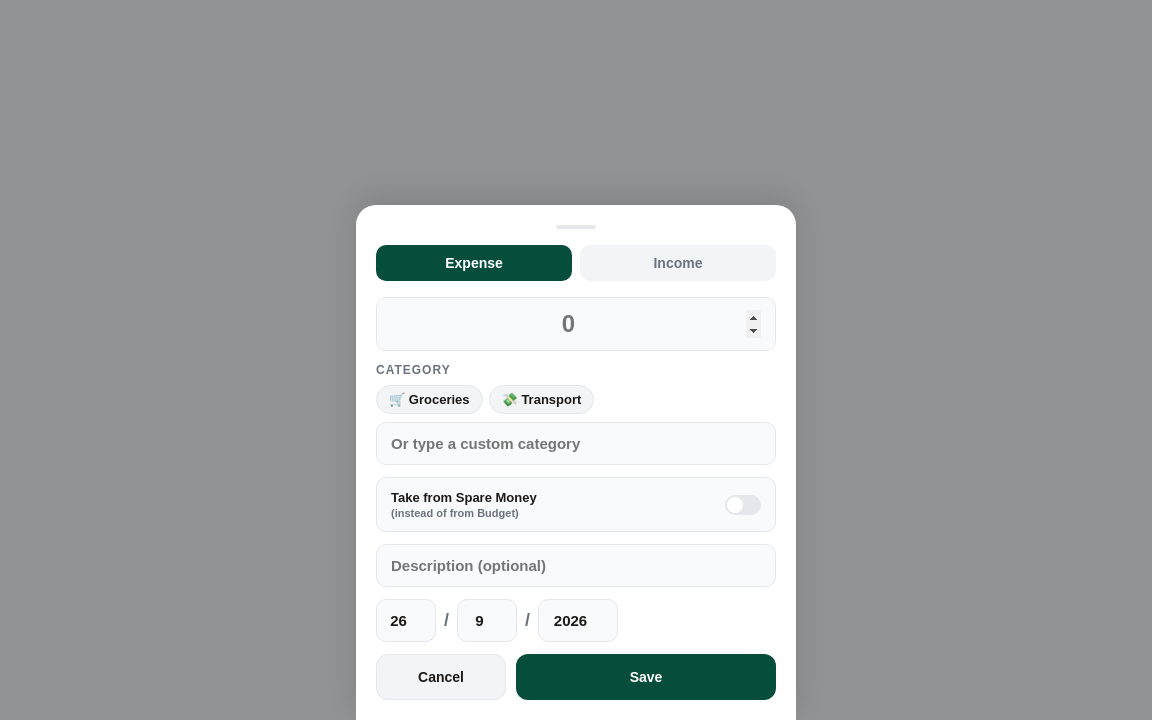
AddTransactionSheet › refuses to save income until a source is chosen
Click the button "Income".
click(678, 263)  # box [580,245,776,281]
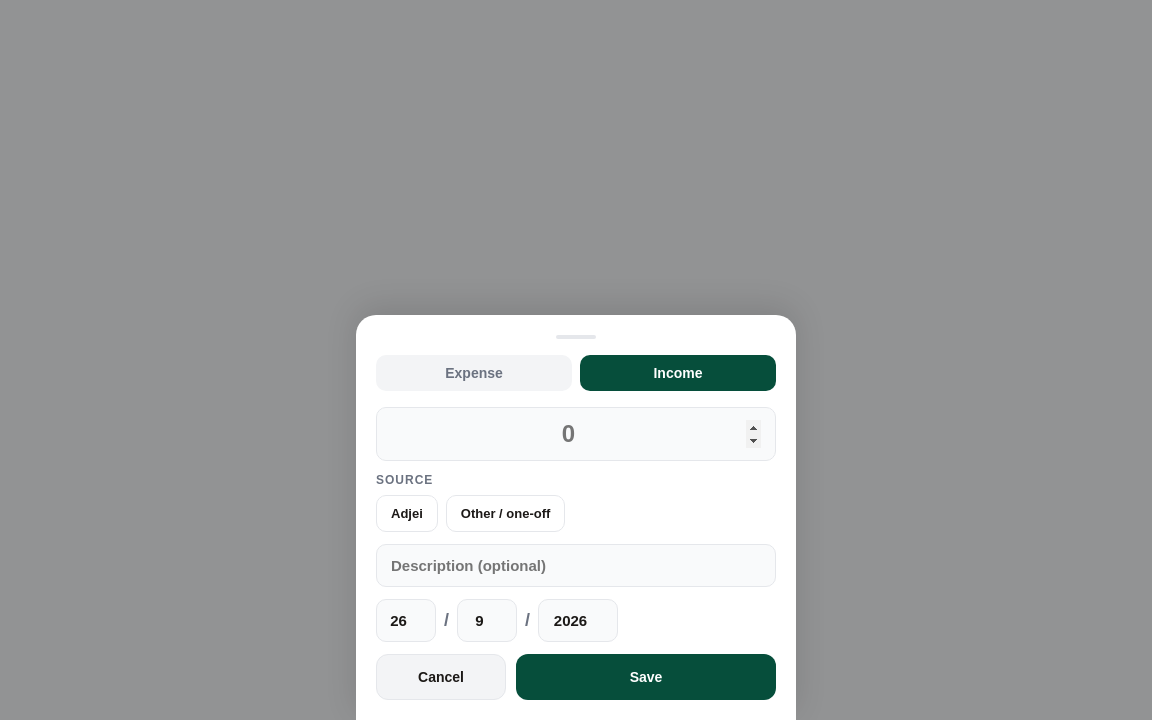
Type "500" into the number field with test id "add-amount-input".
click(576, 434); type("500")  # box [376,407,776,461]
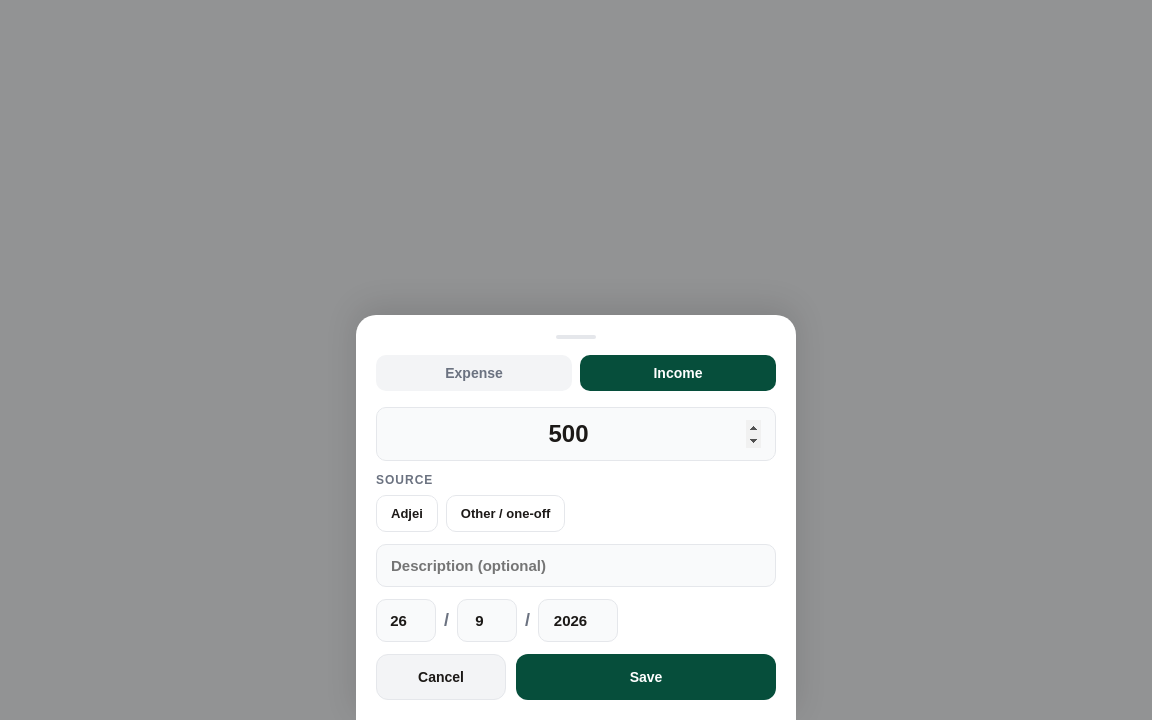
Click the button "Save".
click(646, 677)  # box [516,654,776,700]
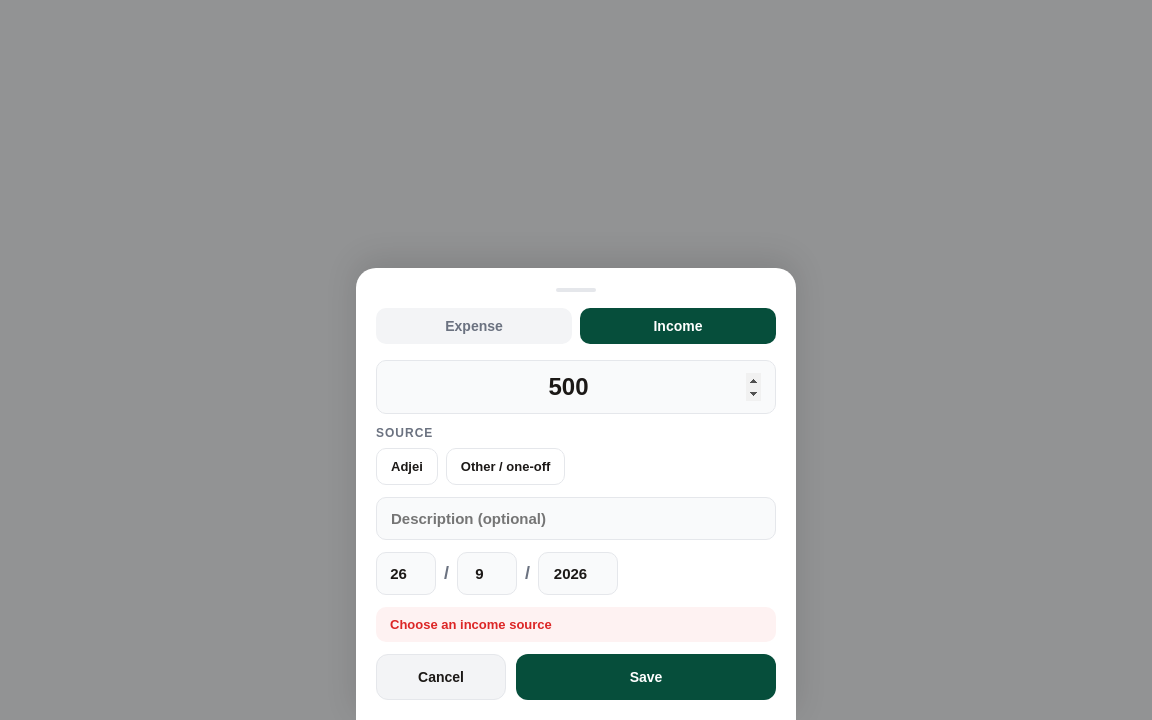
Check: the text "Choose an income source" is shown, box [390,617,552,632]
